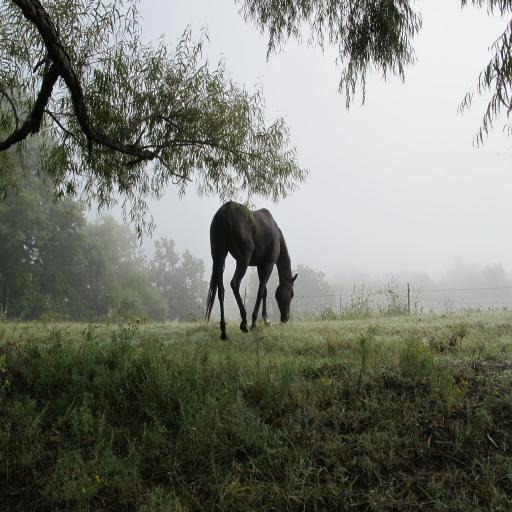horse: (204, 200, 298, 338)
